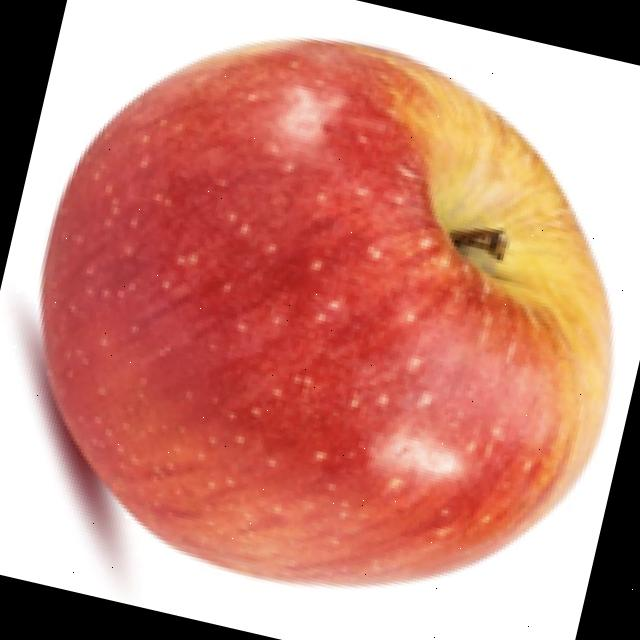apple: (2, 32, 619, 598)
